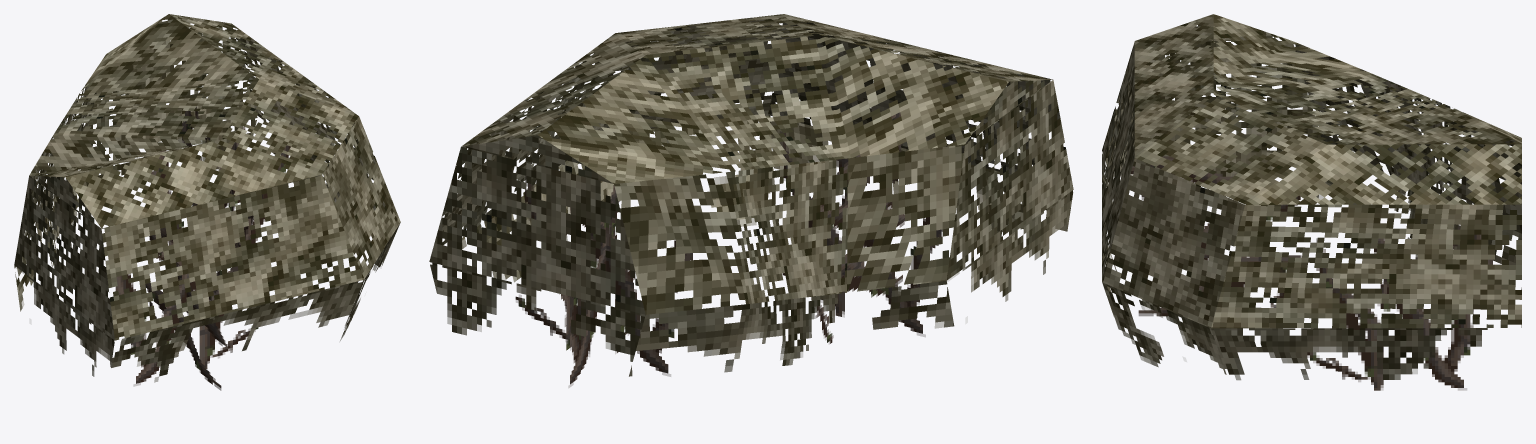
Rendered from bush_round_corner_filled_root_dead.glb.
The picture shows the model from 3 angles, left to right: view 1: azimuth 30°, elevation 25°; view 2: azimuth 150°, elevation 25°; view 3: azimuth 270°, elevation 25°; orthographic projection. The views are drawn at different scales.
Visible parts, largest first — view 1: bush_round_corner_filled_root_dead; view 2: bush_round_corner_filled_root_dead; view 3: bush_round_corner_filled_root_dead.
Part boxes in pixels (bbox=[...]): bush_round_corner_filled_root_dead: bbox=[14, 14, 400, 390]; bush_round_corner_filled_root_dead: bbox=[429, 14, 1073, 387]; bush_round_corner_filled_root_dead: bbox=[1102, 14, 1521, 390].
Bounding box in the file's own units: 1.36 × 0.8765 × 1.35.
2 materials, 2 textured.
